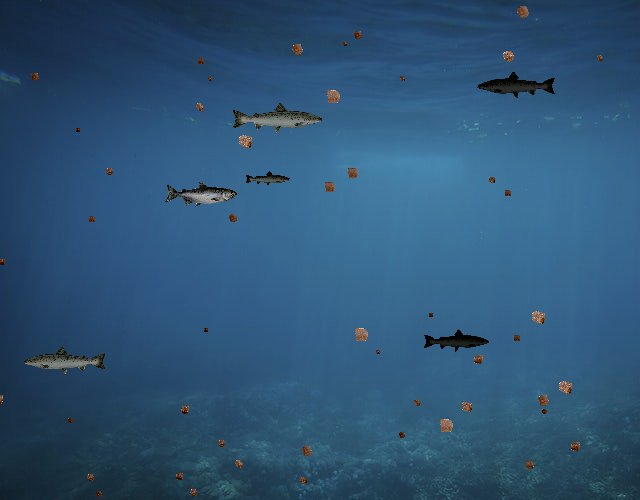Fish: (231, 102, 325, 135), (22, 345, 108, 376), (477, 70, 558, 100), (165, 181, 238, 207), (422, 328, 490, 353), (244, 171, 291, 188)
Pellet: (510, 0, 536, 25), (496, 44, 521, 69), (348, 26, 366, 44), (82, 470, 98, 486), (484, 173, 498, 187), (538, 405, 551, 418), (204, 74, 214, 84)
